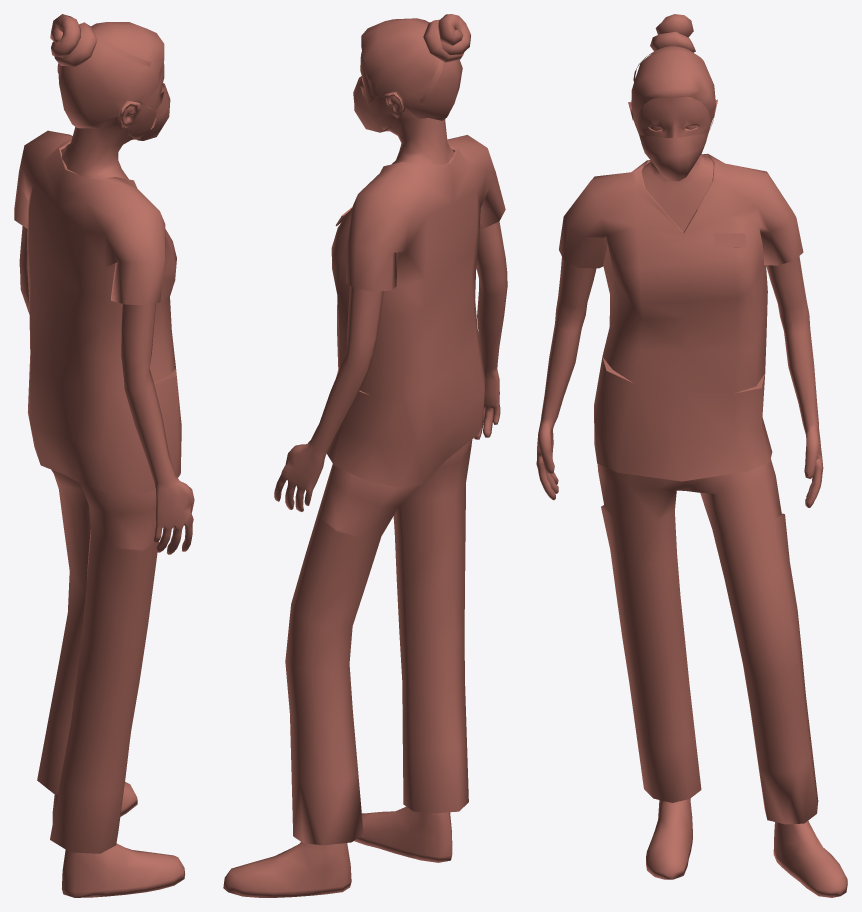
Rendered from scrub.dae.
3 renders of one model, left to right at view 1: azimuth 30°, elevation 25°; view 2: azimuth 150°, elevation 25°; view 3: azimuth 270°, elevation 25°, orthographic. The views are drawn at different scales.
Parts seen in each view (by area): view 1: scrubs.002; view 2: scrubs.002; view 3: scrubs.002.
Boxes of the visible parts, x1,y1,x2,y2 form: scrubs.002: [14, 14, 194, 897]; scrubs.002: [223, 14, 507, 897]; scrubs.002: [536, 14, 847, 897].
Size of the model in its own units: 0.3211 by 0.5573 by 1.61.
